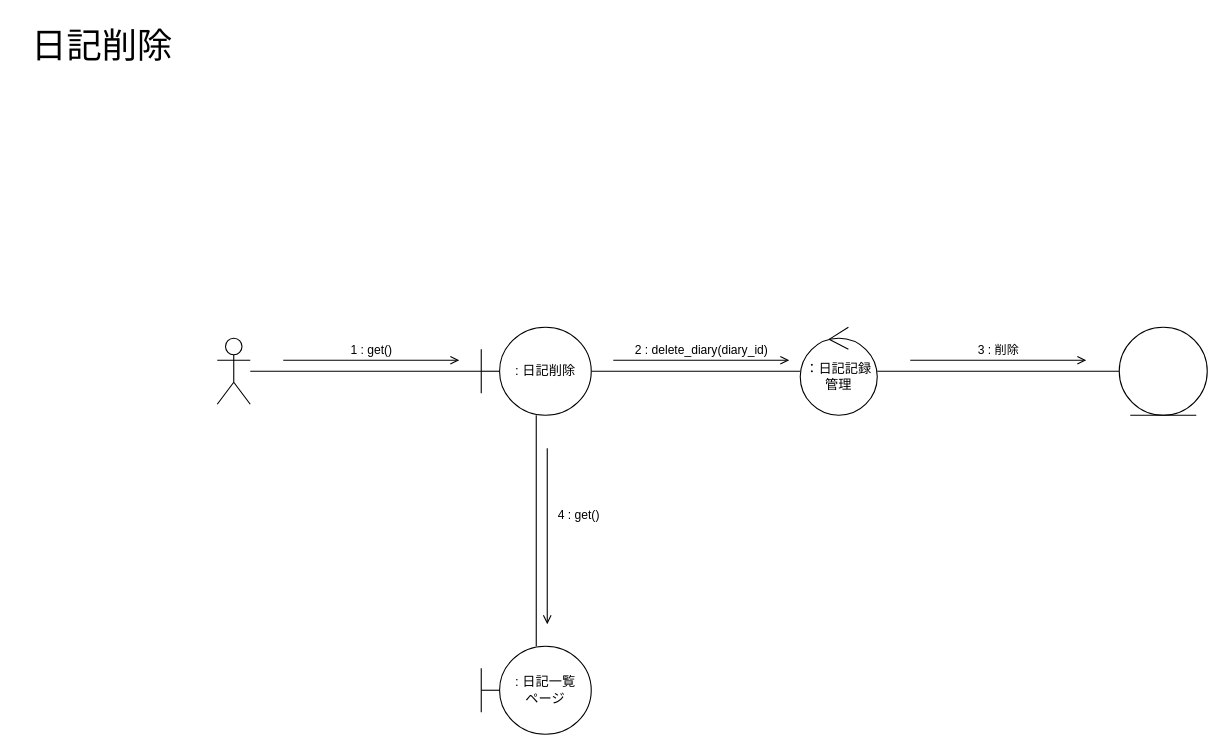
Some shapes in this 1227 by 754 pixel diagram are drawn without their labels. The centre of each missing label's shape, as x and y in pixels:
"：ユーザ" goes at point (233, 370).
"：日記" goes at point (1162, 370).
